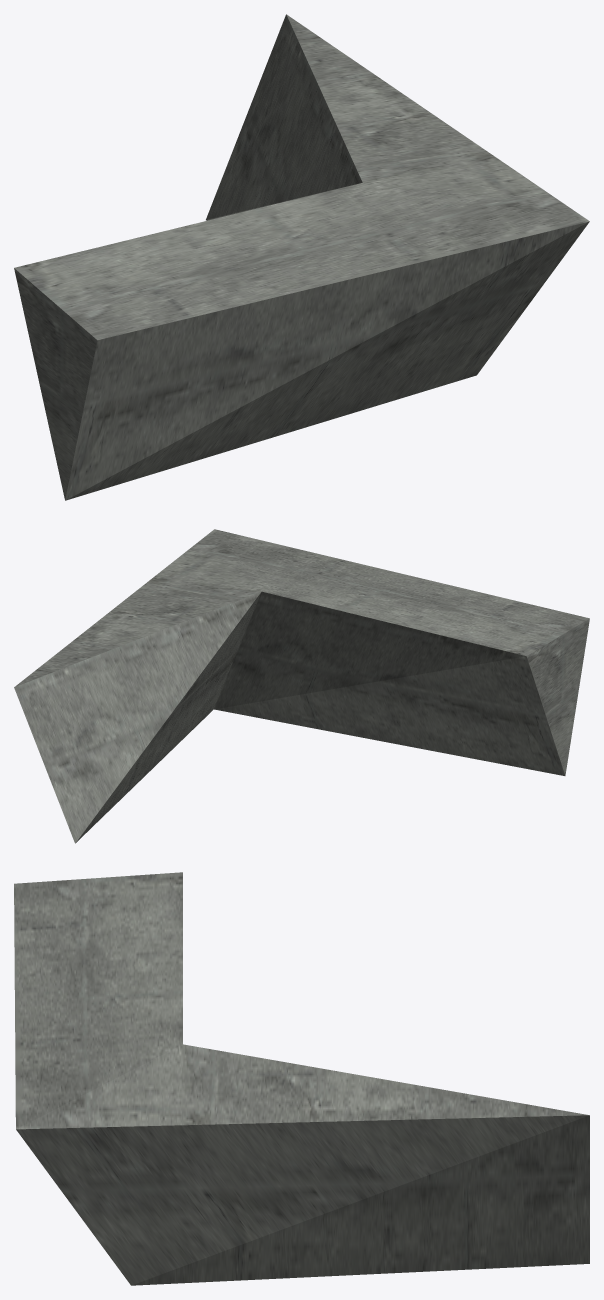
Rendered from PlatformCorner_LOD2.fbx.
3 views of the same model, one above another, from view 1: azimuth 30°, elevation 25°; view 2: azimuth 150°, elevation 25°; view 3: azimuth 270°, elevation 25° (orthographic). The views are drawn at different scales.
Visible parts, largest first — view 1: PlatformCorner.001; view 2: PlatformCorner.001; view 3: PlatformCorner.001.
Boxes of the visible parts, box(x1,y1,x2,y2) form: PlatformCorner.001: box(14, 14, 589, 500); PlatformCorner.001: box(14, 529, 589, 843); PlatformCorner.001: box(14, 872, 589, 1285).
Bounding box in the file's own units: 1.19 × 0.45 × 1.19.
Materials: 1 (1 with a texture image).
